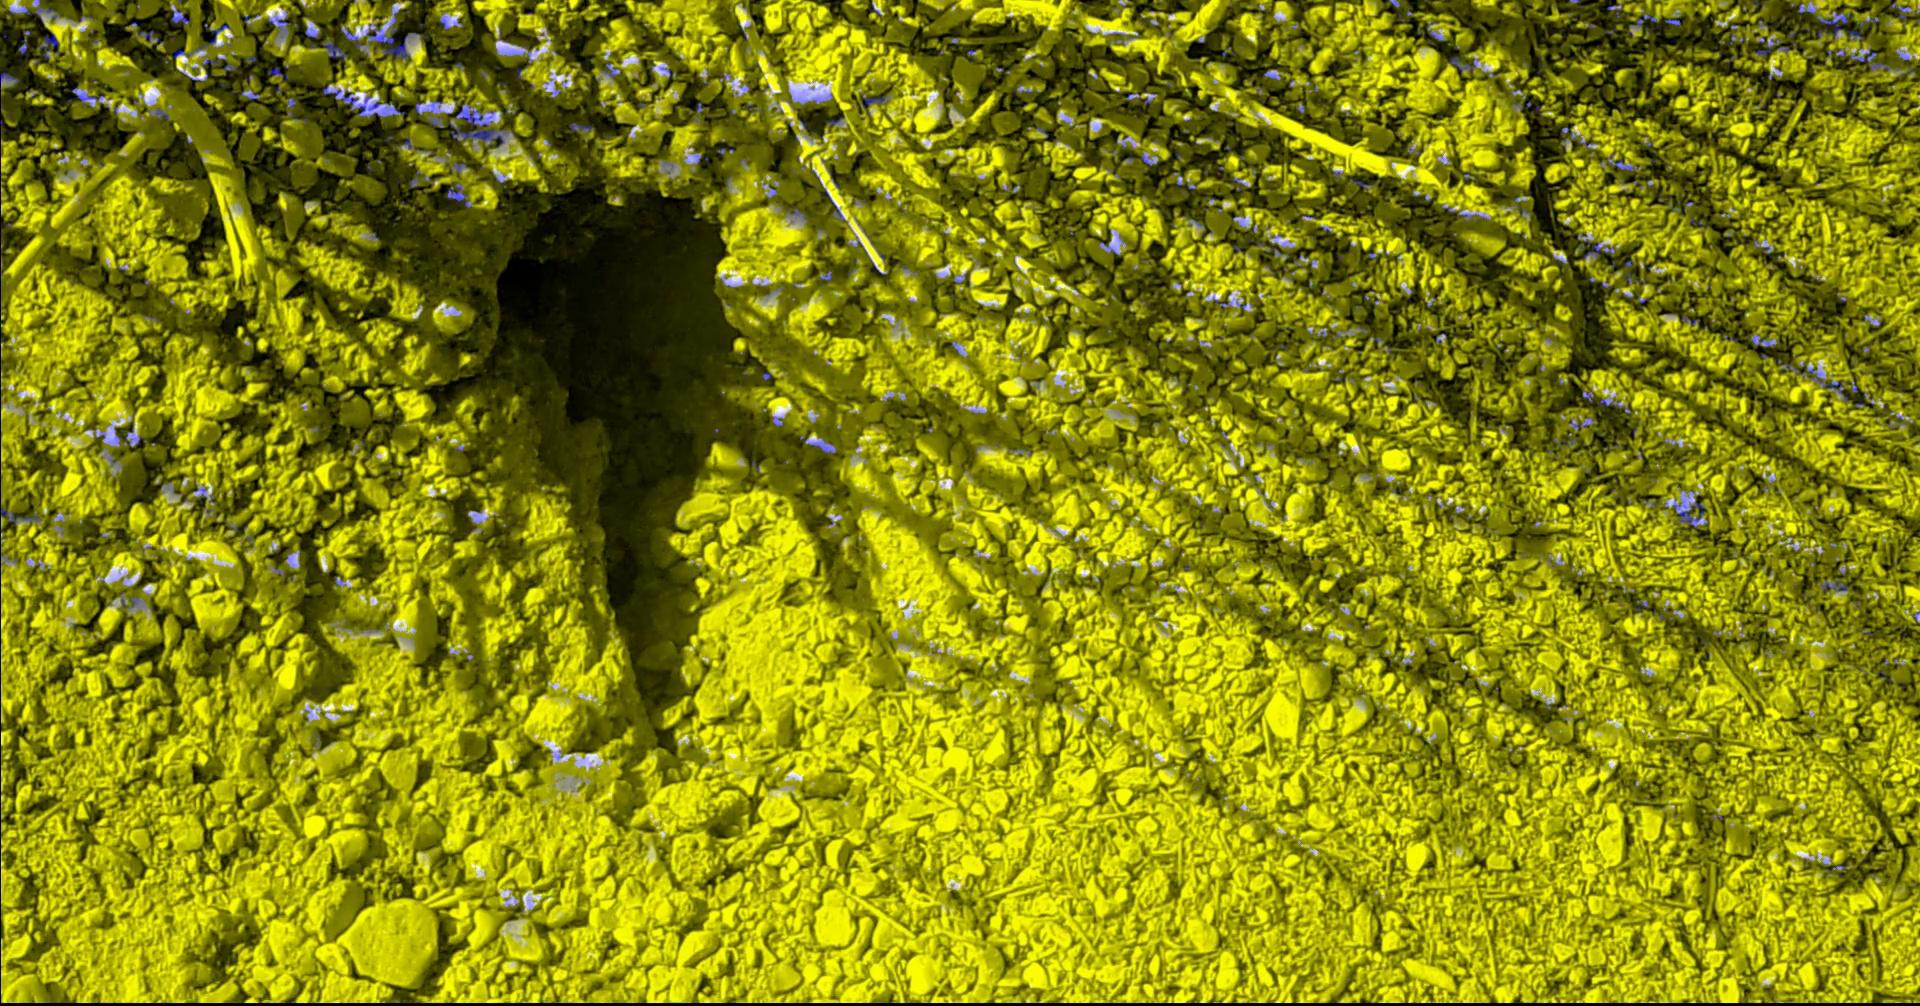ant: (364, 9, 419, 58), (323, 86, 405, 118), (448, 103, 505, 147), (1780, 363, 1844, 395), (190, 23, 230, 53), (8, 0, 58, 23), (1576, 232, 1614, 258), (1816, 10, 1850, 37), (1849, 50, 1890, 70), (1677, 500, 1705, 527), (340, 25, 370, 50), (0, 506, 39, 523), (446, 182, 470, 208), (1441, 205, 1479, 221), (1755, 38, 1789, 56), (321, 36, 345, 58), (37, 33, 58, 58), (136, 29, 164, 48), (1606, 155, 1638, 171), (70, 86, 103, 102), (1449, 55, 1476, 72), (0, 71, 19, 95), (1890, 0, 1909, 20), (1820, 578, 1848, 591), (18, 29, 30, 55), (1629, 14, 1656, 25), (601, 62, 620, 77), (170, 9, 188, 24), (861, 95, 888, 105), (1751, 337, 1778, 345), (568, 122, 593, 131), (450, 161, 467, 173), (1848, 30, 1862, 39)
